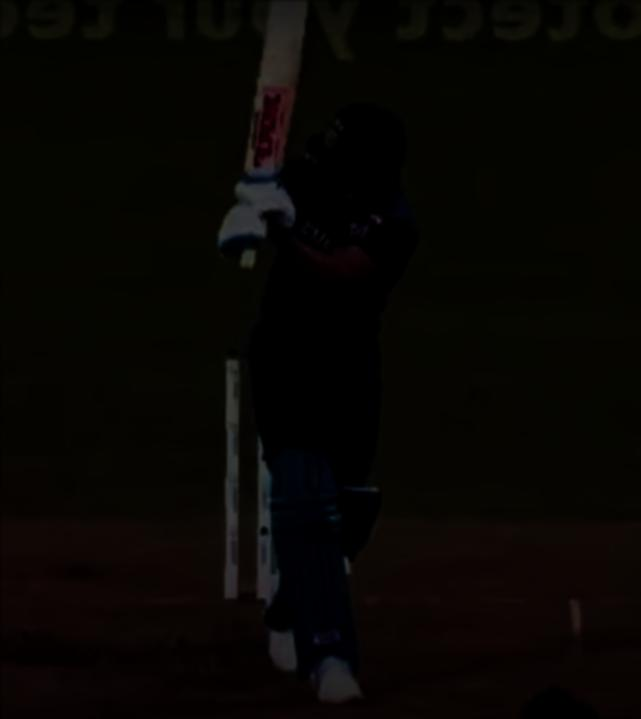batsman: (180, 9, 494, 719)
